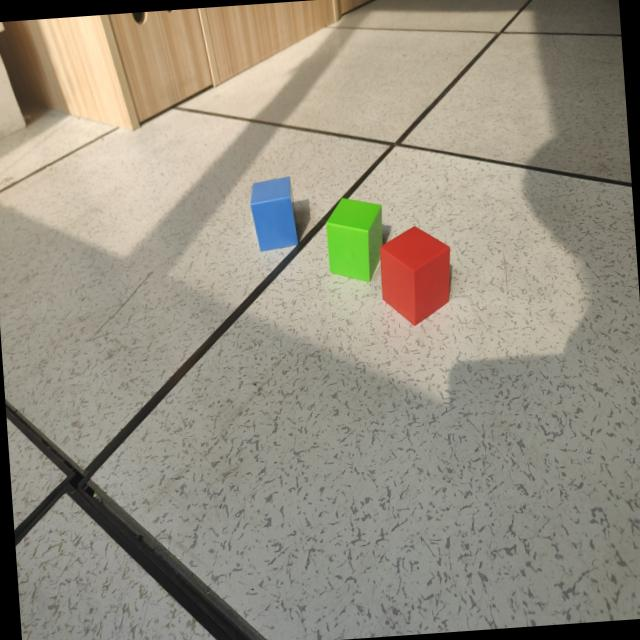blue: (249, 177, 300, 254)
green: (324, 198, 386, 283)
red: (380, 227, 452, 327)
